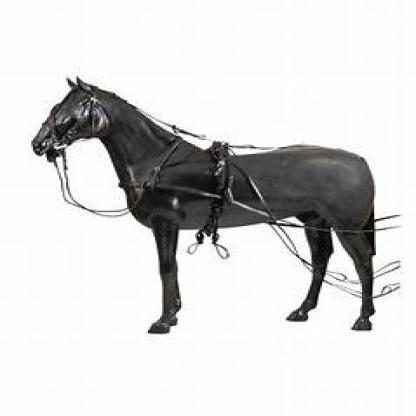horse: (28, 76, 376, 332)
